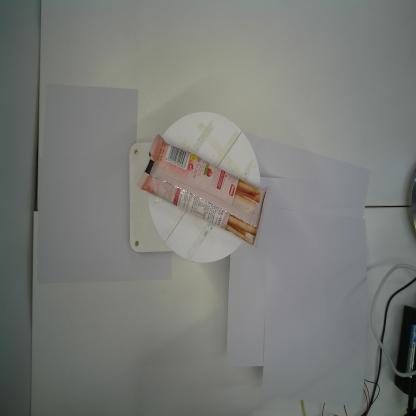Dessert: (136, 133, 272, 250)
